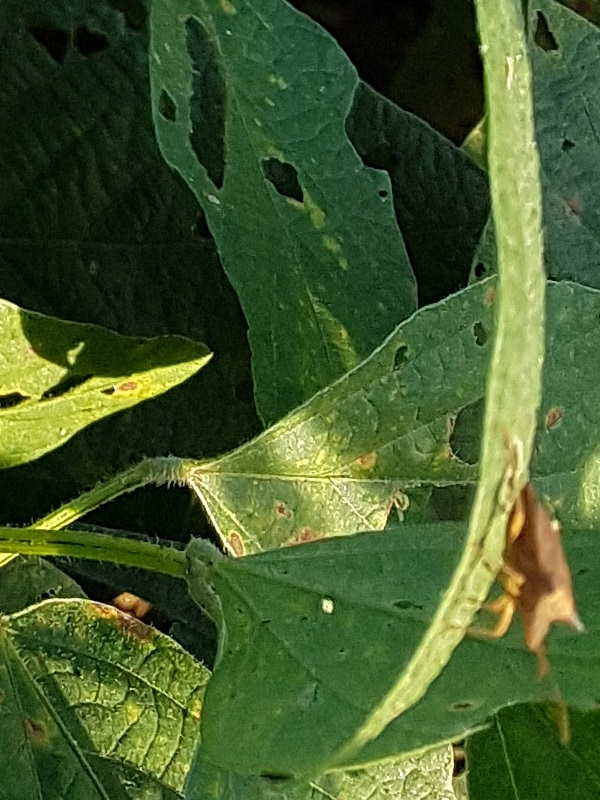Euschistus_heros_adulto: (421, 423, 600, 691)
